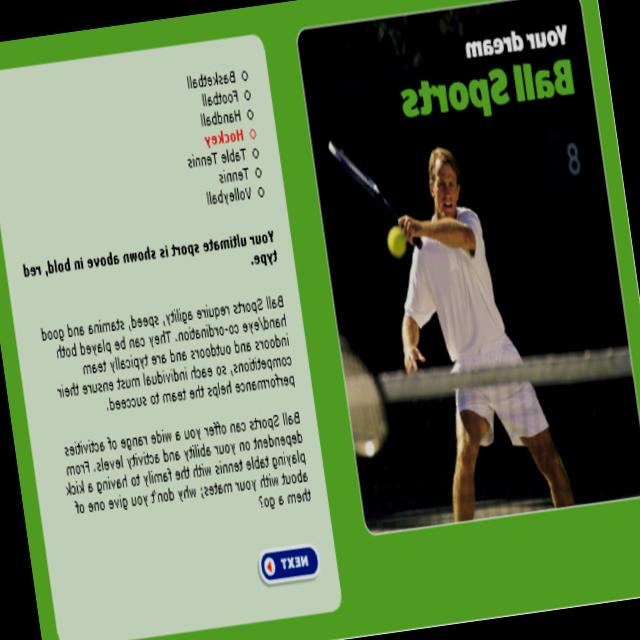Tennis Ball: (385, 221, 411, 264)
